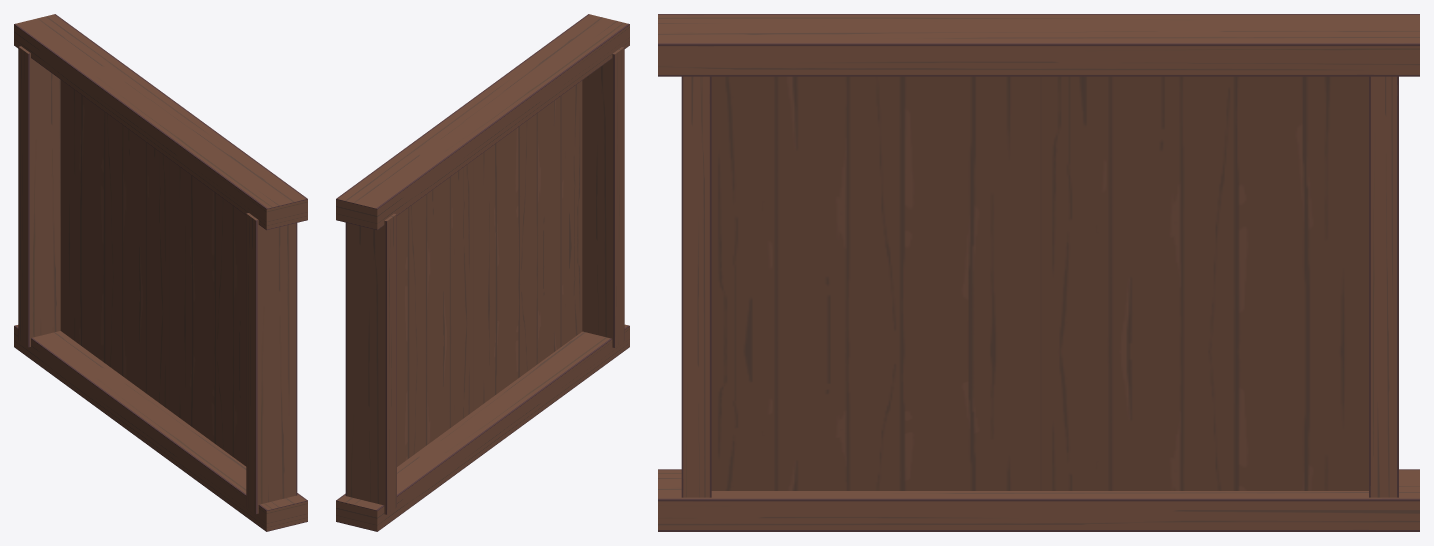
File: Mesh_Room_Timber_01.fbx
3 renders of one model, left to right at view 1: azimuth 30°, elevation 25°; view 2: azimuth 150°, elevation 25°; view 3: azimuth 270°, elevation 25°, orthographic. The views are drawn at different scales.
Parts seen in each view (by area): view 1: Mesh_Room_Timber_01; view 2: Mesh_Room_Timber_01; view 3: Mesh_Room_Timber_01.
Boxes of the visible parts, x1=… form: Mesh_Room_Timber_01: x1=14, y1=14, x2=307, y2=531; Mesh_Room_Timber_01: x1=336, y1=14, x2=629, y2=531; Mesh_Room_Timber_01: x1=658, y1=14, x2=1419, y2=531.
Size of the model in its own units: 19.33 by 136 by 192.
